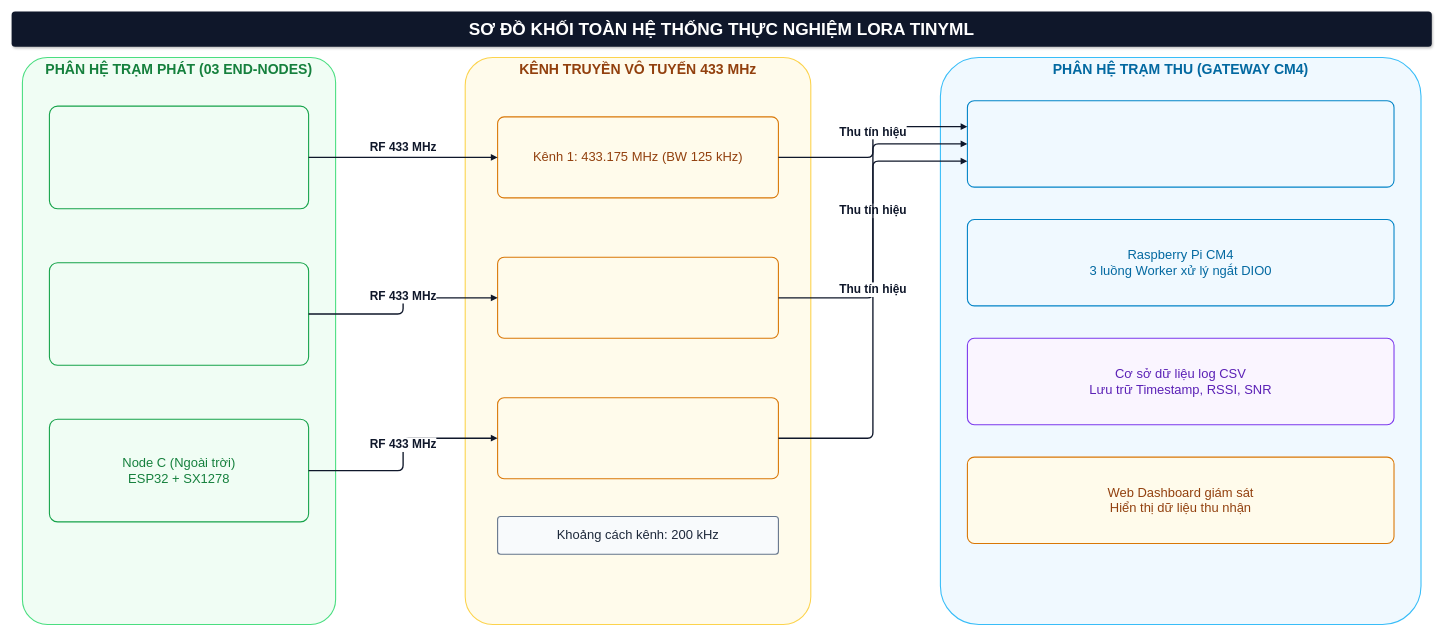
Some shapes in this 1444 by 634 pixel diagram are drawn without their labels. Here are the shapes that lost their labels. From the top down, the centre of each, then its label:
the point at 179,157: Node A (Tầng 1) ESP32 + SX1278
the point at 1180,143: 3x Module SX1278 (SPI0 Bus) Thu đồng thời 3 kênh
the point at 179,314: Node B (Tầng 2) ESP32 + SX1278
the point at 638,297: Kênh 2: 433.375 MHz (BW 125 kHz)
the point at 638,438: Kênh 3: 433.575 MHz (BW 125 kHz)
